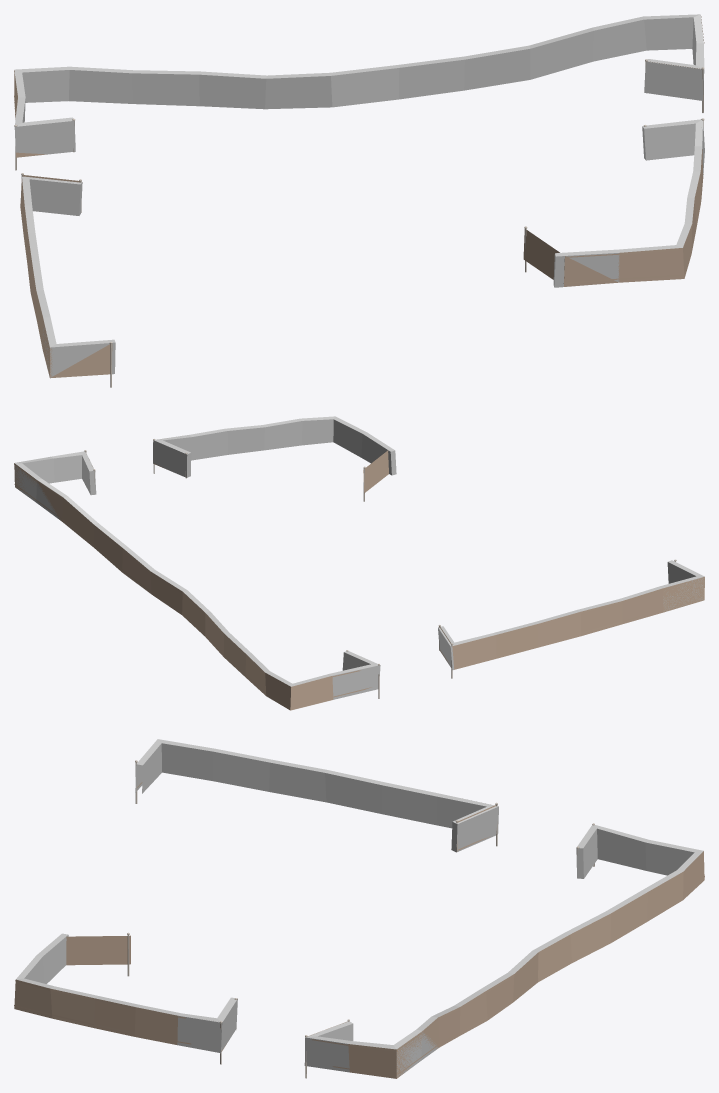
File: imports_fencing.dae
The picture shows the model from 3 angles, top to bottom: view 1: azimuth 30°, elevation 25°; view 2: azimuth 150°, elevation 25°; view 3: azimuth 270°, elevation 25°; orthographic projection. The views are drawn at different scales.
Visible parts, largest first — view 1: Colmesh-1, imports_fencing_a1500; view 2: Colmesh-1, imports_fencing_a1500; view 3: Colmesh-1, imports_fencing_a1500.
Part boxes in pixels (left/top/right/bottom): Colmesh-1: left=14, top=14, right=704, bottom=377; imports_fencing_a1500: left=14, top=16, right=704, bottom=387; Colmesh-1: left=14, top=416, right=704, bottom=699; imports_fencing_a1500: left=14, top=439, right=704, bottom=710; Colmesh-1: left=16, top=739, right=703, bottom=1077; imports_fencing_a1500: left=14, top=760, right=704, bottom=1078.
Bounding box in the file's own units: 47.62 × 38.71 × 5.59.
